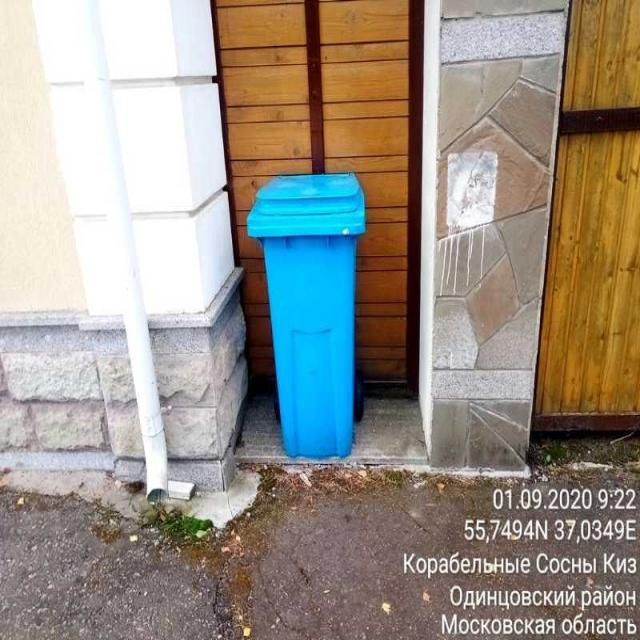Dumpster: (247, 175, 369, 458)
